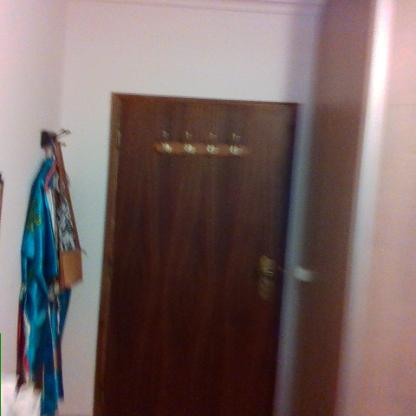closed: (89, 82, 305, 416)
